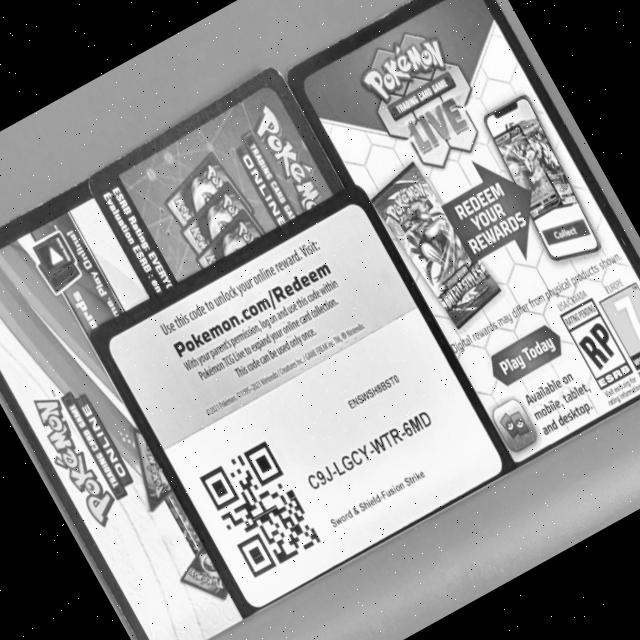QR-codes: (198, 436, 326, 580)
